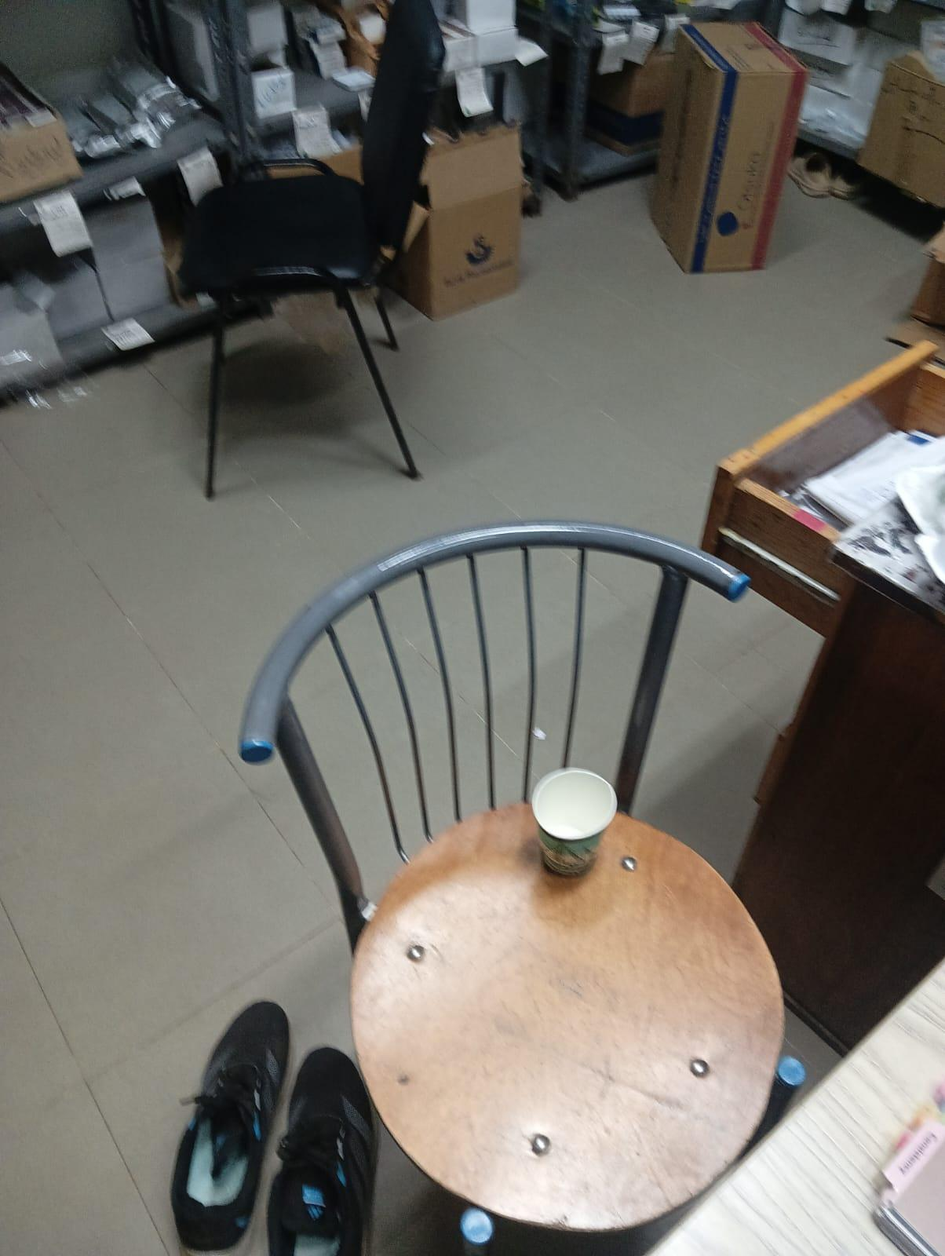cup: (531, 768, 616, 874)
